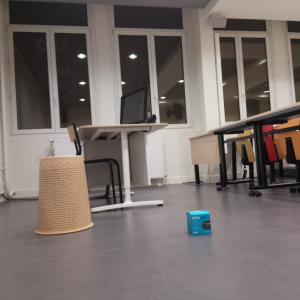medium: (34, 156, 95, 235)
small: (186, 209, 213, 236)
